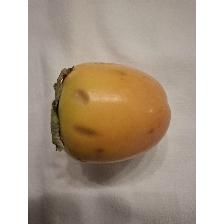Kaki: (48, 56, 174, 168)
